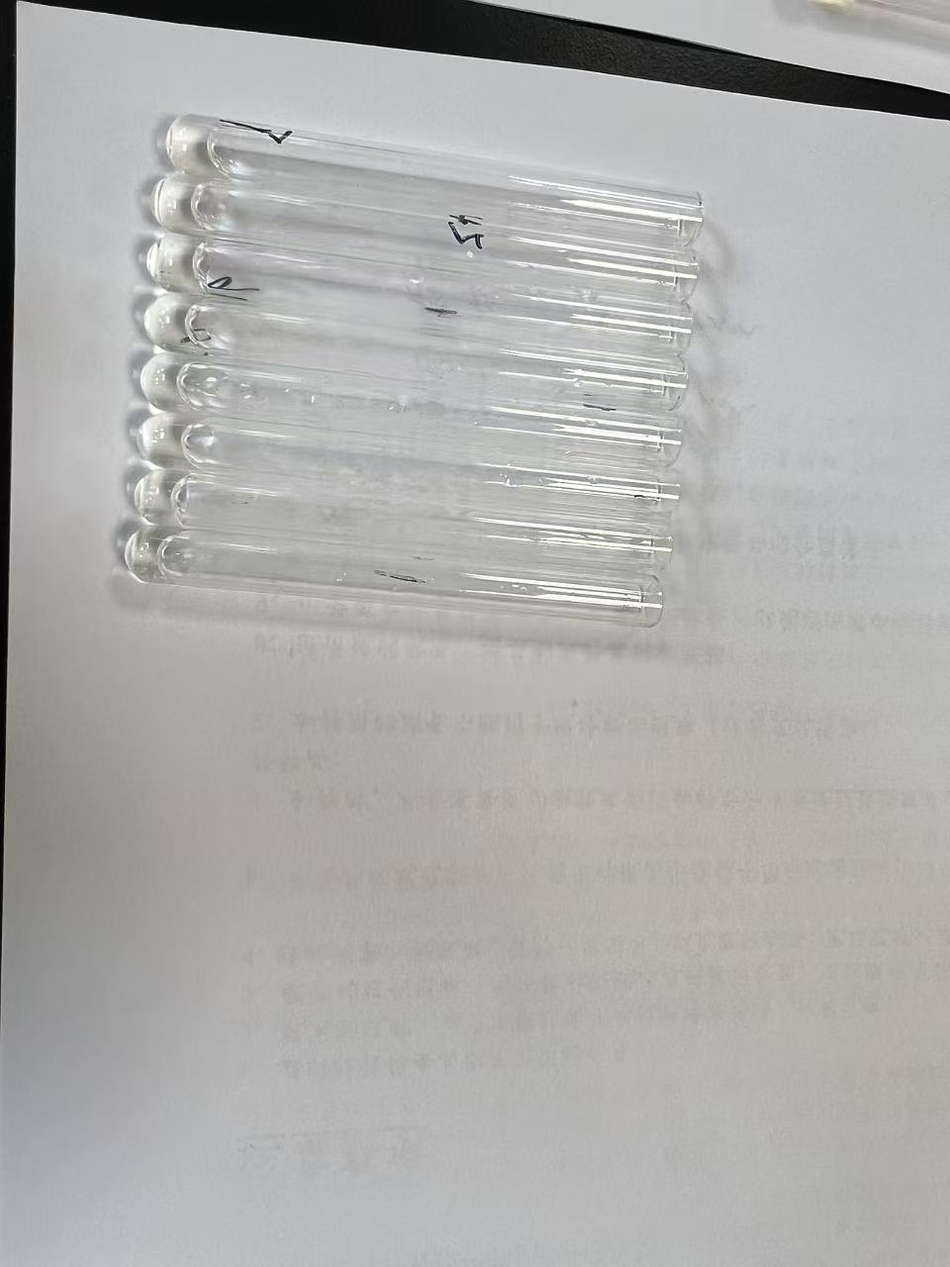drop: (145, 234, 213, 295), (163, 112, 228, 175), (139, 348, 198, 417), (138, 412, 203, 471), (154, 172, 212, 235), (143, 295, 206, 353), (132, 472, 187, 529), (122, 528, 177, 584)
